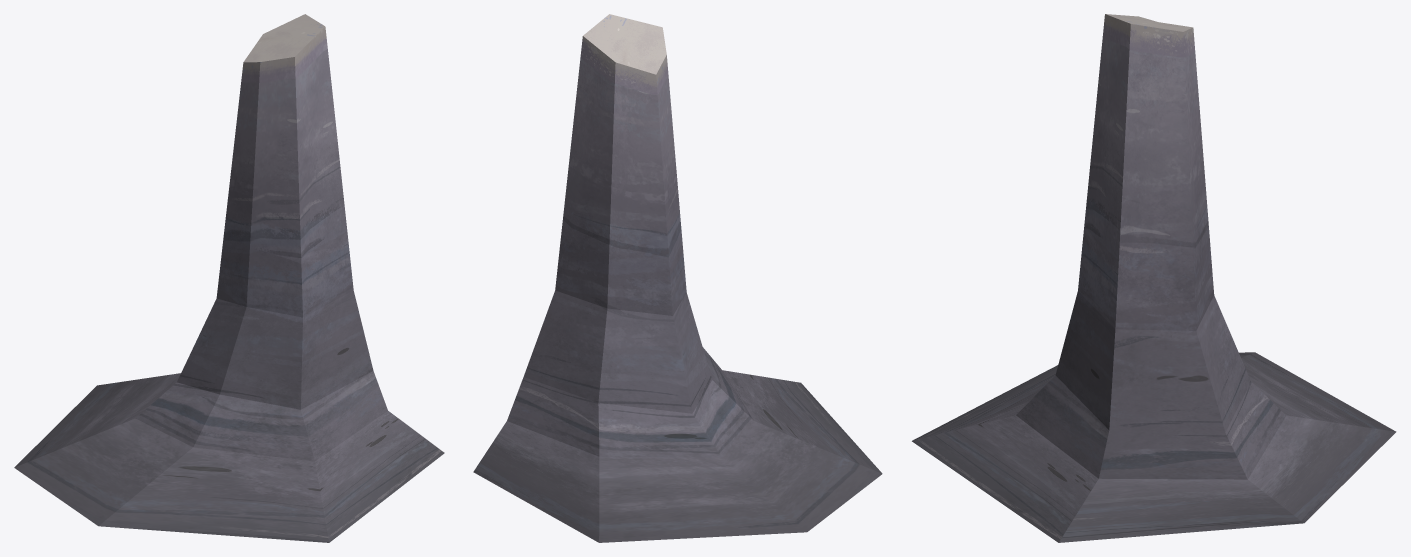
File: spire_3_002.fbx
3 views of the same model, side by side, from view 1: azimuth 30°, elevation 25°; view 2: azimuth 150°, elevation 25°; view 3: azimuth 270°, elevation 25° (orthographic). The views are drawn at different scales.
Visible parts, largest first — view 1: spire 3.002; view 2: spire 3.002; view 3: spire 3.002.
Part boxes in pixels (left/top/right/bottom): spire 3.002: left=14, top=14, right=444, bottom=542; spire 3.002: left=473, top=14, right=882, bottom=542; spire 3.002: left=912, top=14, right=1396, bottom=542.
Bounding box in the file's own units: 690 × 816 × 761.
